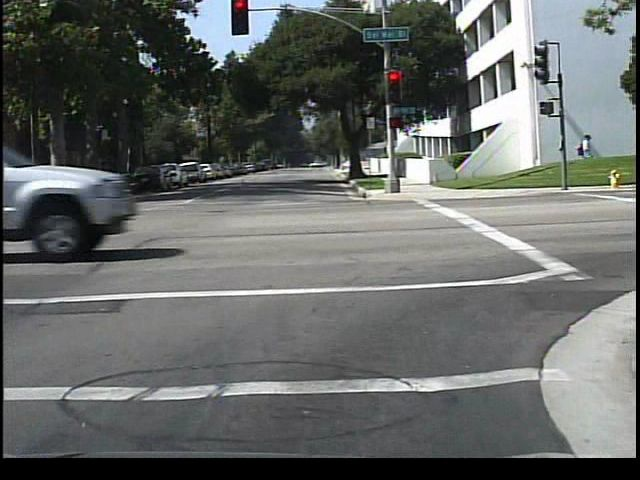person: (574, 127, 598, 181)
